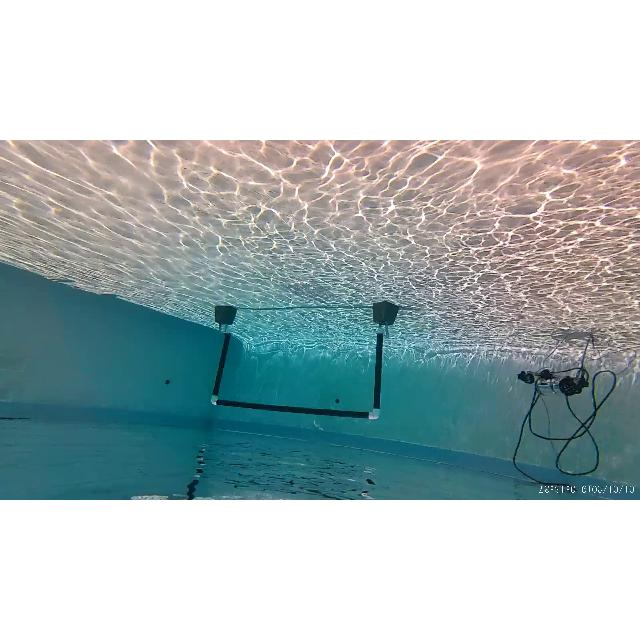prequal gate: (210, 328, 384, 419)
prequal gate leg l: (365, 324, 387, 424)
prequal gate leg r: (210, 323, 234, 419)
